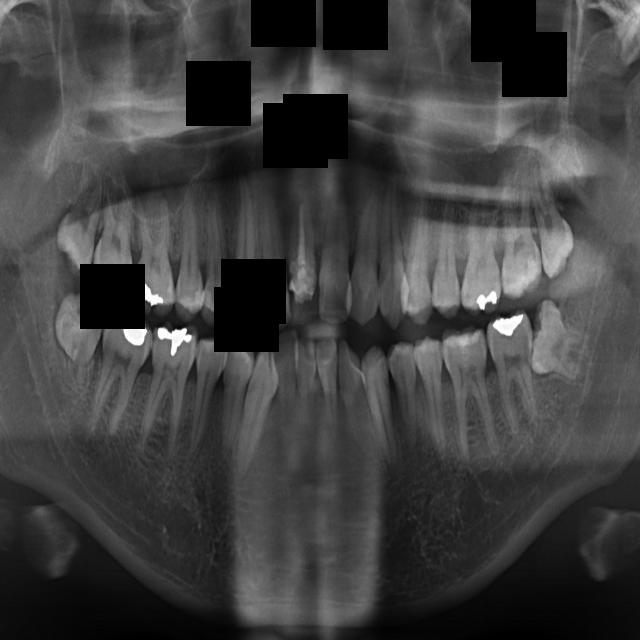3M ESPE Implant: (49, 145, 113, 280)
AGS Medikal Implant: (484, 306, 541, 439)
AMerOss Implant: (439, 322, 501, 475)
Amalgam filling: (90, 161, 139, 304)
Anthogyr Implant: (412, 334, 451, 477)
Bicon Implant: (385, 337, 432, 469)
BioHorizons Implant: (358, 341, 401, 472)
BioLife Implant: (328, 335, 384, 470)
Biomet 3i Implant: (315, 332, 340, 451)
Blue Sky Bio Implant: (293, 333, 323, 474)
Camlog Implant: (271, 327, 301, 478)
Caries: (350, 181, 381, 326)
Composite filling: (223, 342, 287, 487)
Cowellmedi Implant: (202, 339, 257, 469)
Crown: (176, 334, 228, 467)
DENTSPLY Implant: (133, 194, 177, 318)
Dentatus Implant: (133, 317, 201, 468)
Dentis Implant: (86, 301, 157, 440)
Dentium Implant: (41, 287, 114, 369)
Euroteknika Implant: (174, 185, 210, 322)
Filling: (200, 181, 239, 329)
Frontier Implant: (232, 168, 260, 334)
Hiossen Implant: (377, 160, 404, 330)
Implant: (280, 153, 322, 327)
Implant Direct: (251, 165, 290, 333)
Keystone Dental Implant: (319, 150, 350, 327)
MIS Implant: (399, 165, 433, 325)
Mandible: (429, 173, 461, 320)
Maxilla: (461, 175, 502, 318)
Megagen Implant: (500, 157, 543, 302)
Neodent Implant: (522, 140, 581, 282)
Neoss Implant: (520, 296, 600, 384)
